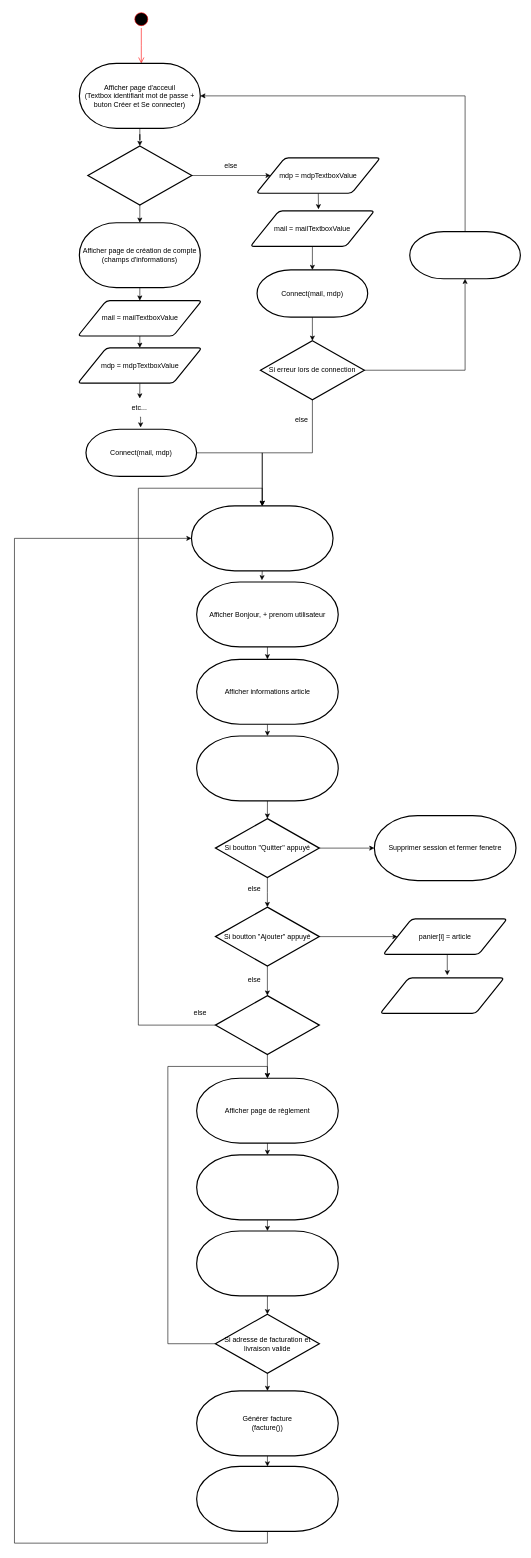
The diagram is 531 pixels wide and 1558 high, and some of its shapes have lost their labels. The centre of each missing label's shape, as x and y in pixels:
Afficher "Identifiant ou mot de passe incorrect": point 465,255
Afficher bouttons "Ajouter" "Acheter" "Quitter": point 267,768
Afficher facture: point 267,1499
Afficher page de la boutique: point 262,538
Afficher text input adresse de facturation: point 267,1187
Afficher text input adresse de livraison: point 267,1263
i++: point 441,995
Si boutton "Acheter" appuyé: point 267,1025
Si boutton "Créer" appuyé: point 139,175
